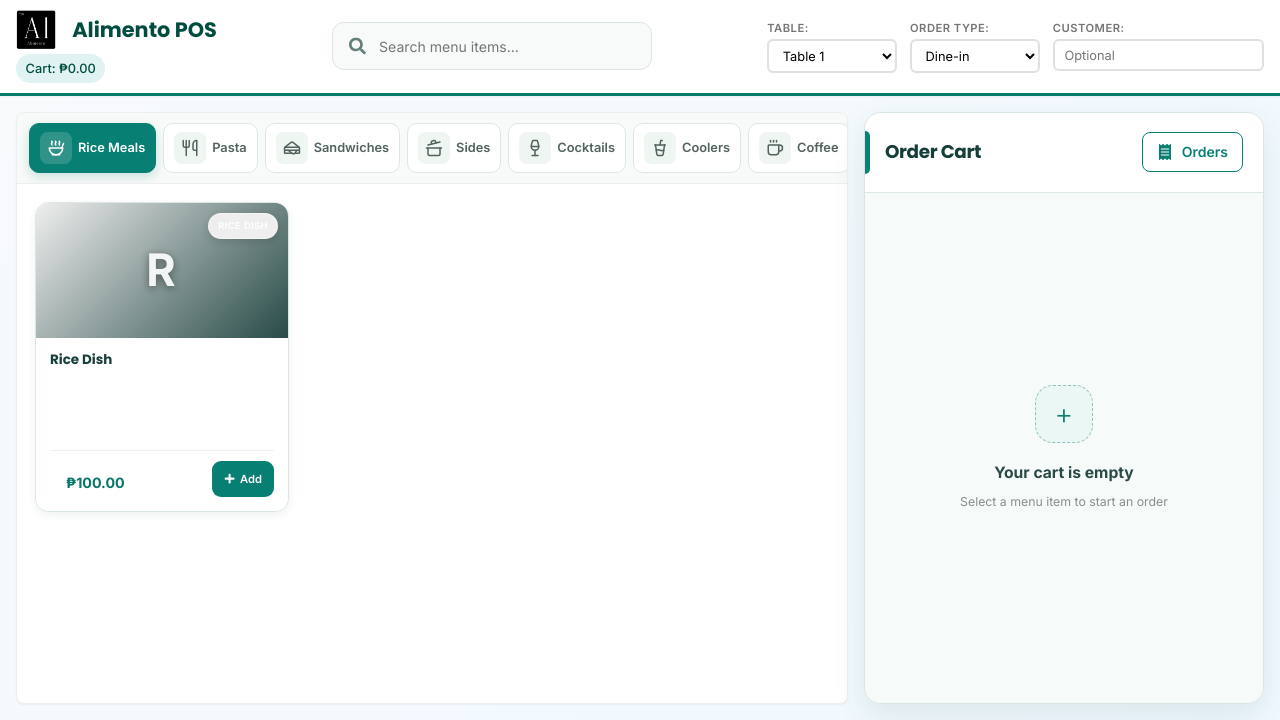
Test case: reuses a recently loaded category without another request
Check: the text "Rice dish" is shown, box [208,213,278,239]
Click the button "Pasta". click: click(210, 148)
box: [163,123,258,173]
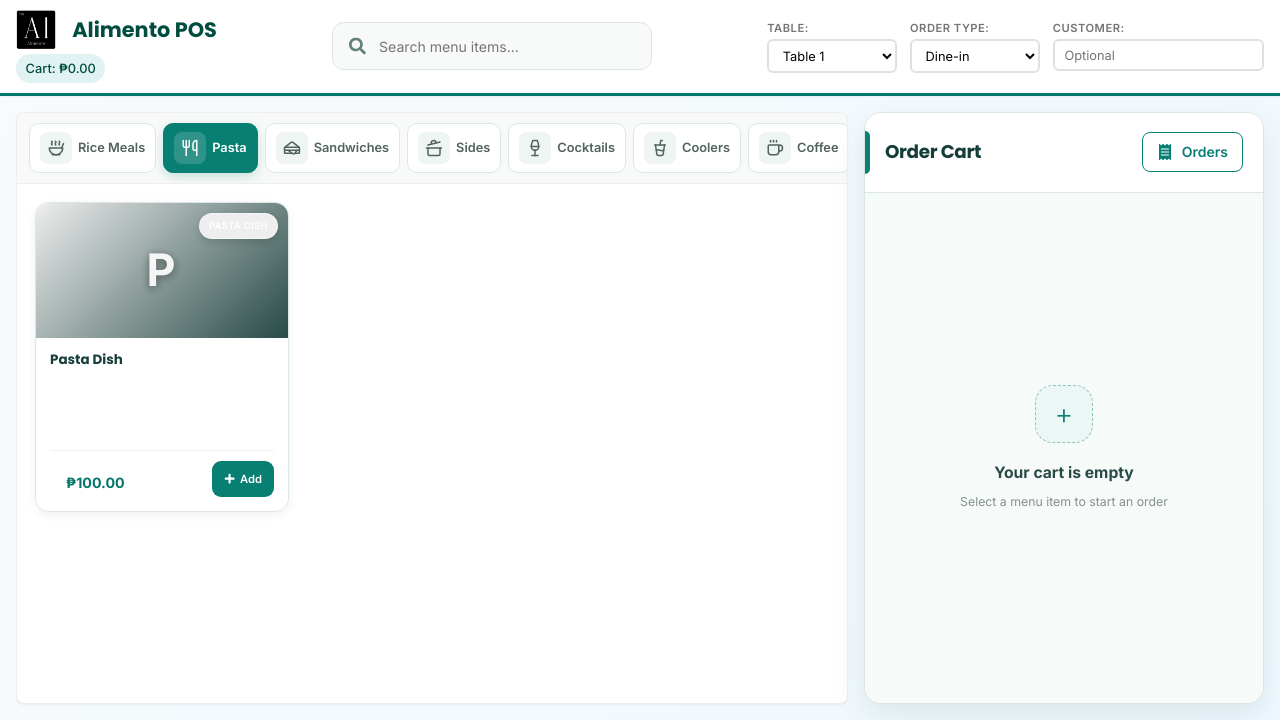
Check: the text "Pasta dish" is shown, box [199,213,278,239]
Click the button "Rice Meals". click: click(93, 148)
box: [29,123,156,173]
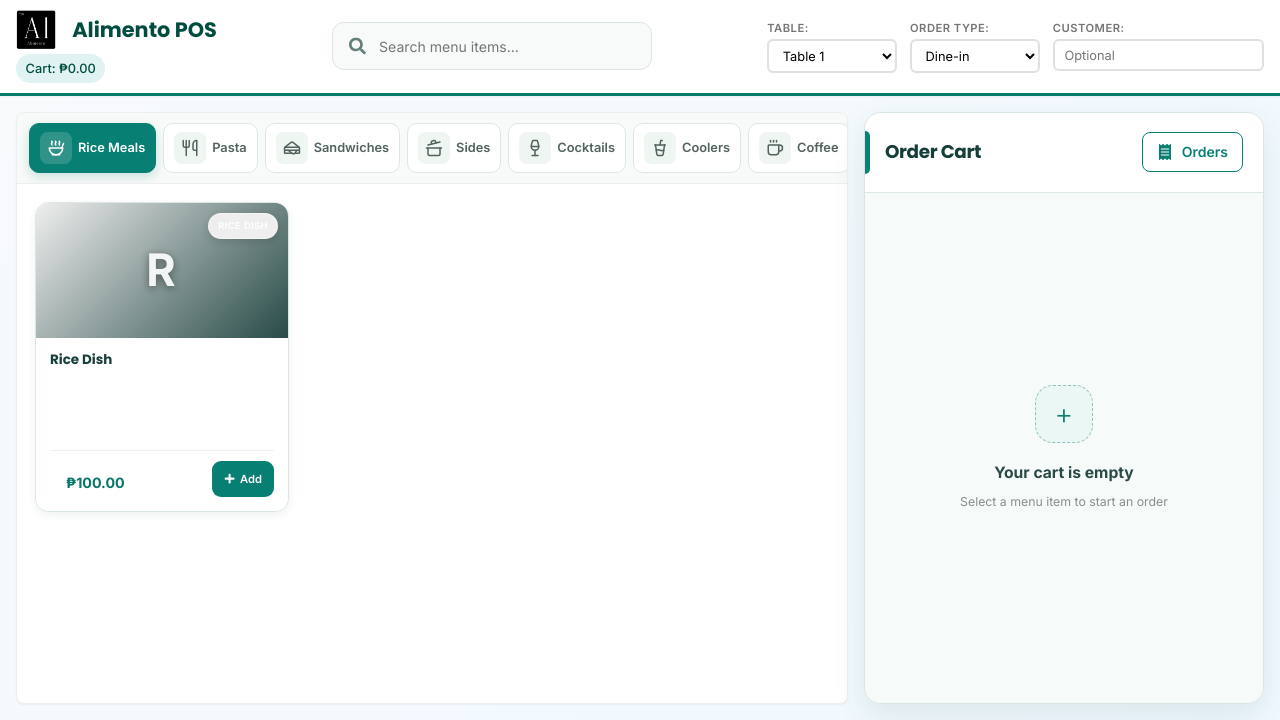
Check: the text "Rice dish" is shown, box [208,213,278,239]
